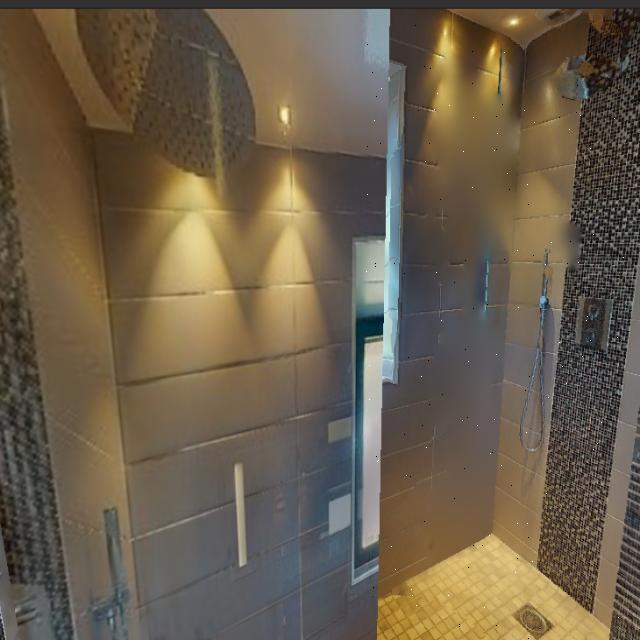shower: (366, 20, 624, 640)
